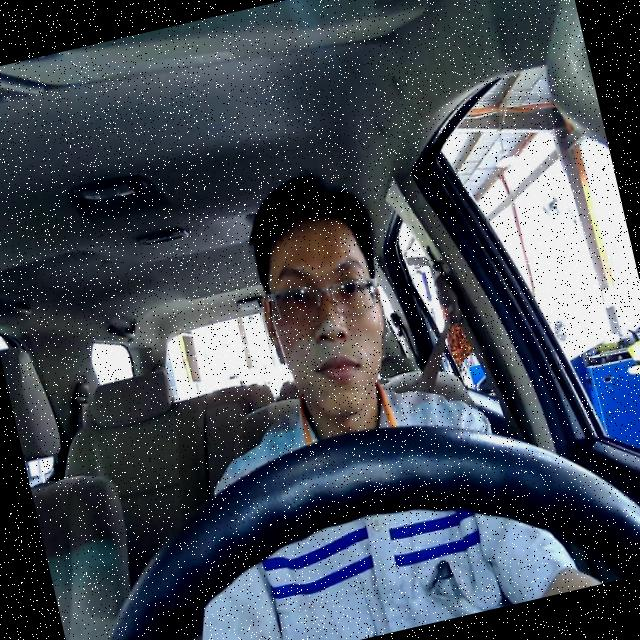focused: (245, 205, 404, 432)
